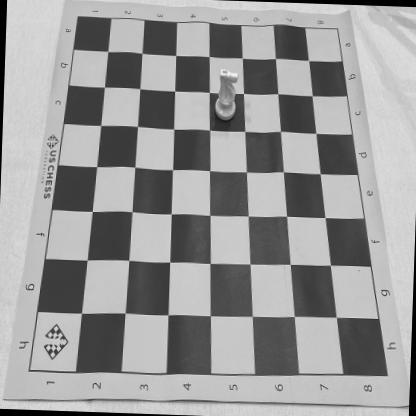knight: (214, 68, 239, 122)
